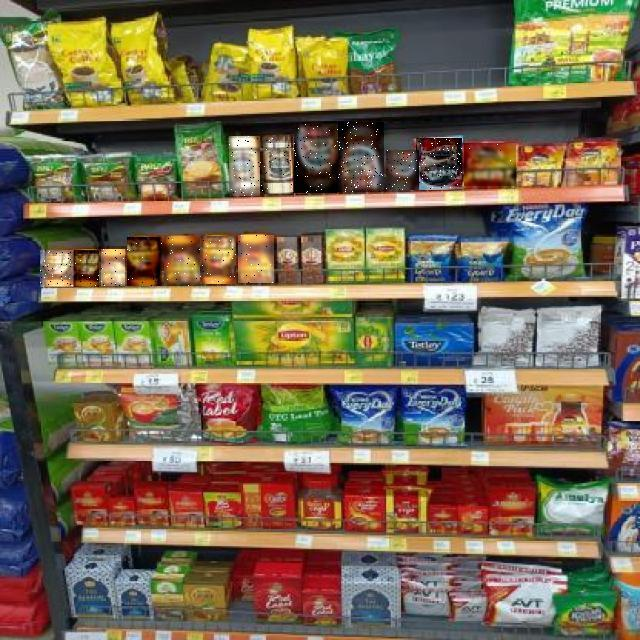Coffee: (338, 123, 384, 193), (294, 124, 338, 193), (416, 138, 462, 190), (464, 144, 516, 188), (260, 135, 294, 194), (229, 136, 260, 196), (165, 236, 201, 286), (128, 237, 164, 286), (238, 235, 274, 283), (201, 236, 237, 284), (386, 150, 419, 190), (40, 250, 74, 287), (73, 250, 99, 287), (101, 249, 125, 286)
